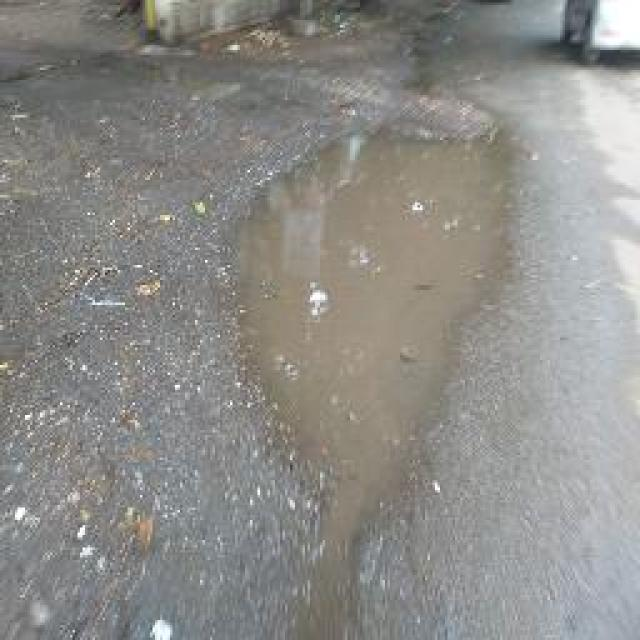stagnation: (236, 79, 511, 640)
